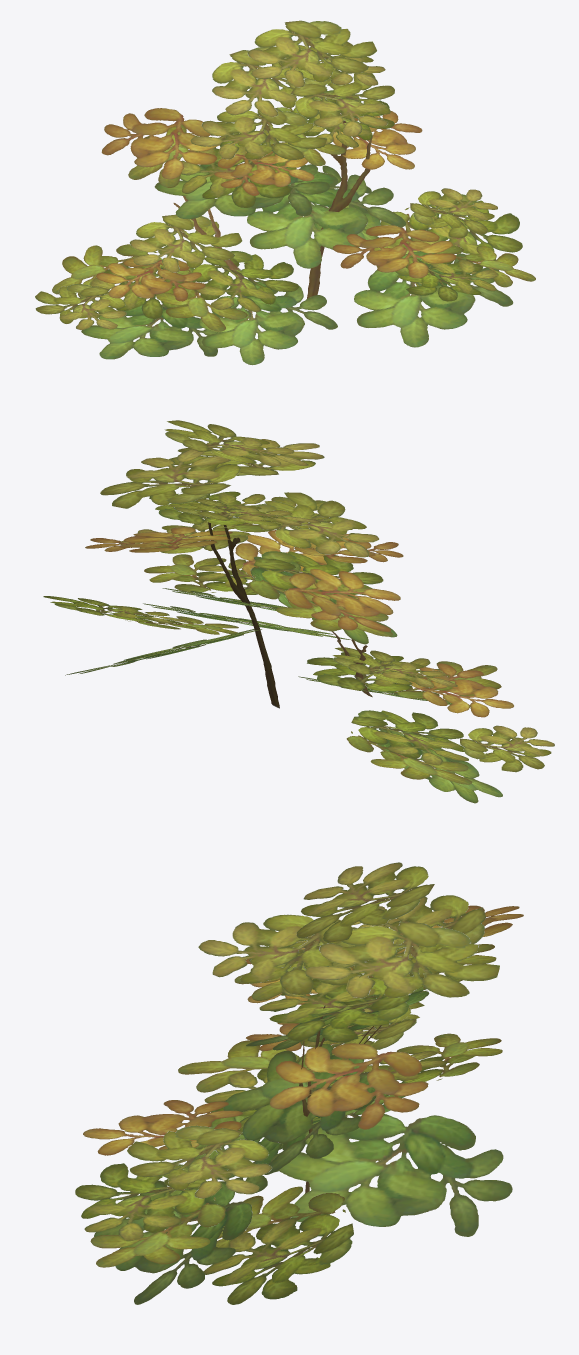
Rendered from Map_08_tree06.FBX.
3 renders of one model, top to bottom at view 1: azimuth 30°, elevation 25°; view 2: azimuth 150°, elevation 25°; view 3: azimuth 270°, elevation 25°, orthographic. The views are drawn at different scales.
Parts seen in each view (by area): view 1: Map_08_tree06; view 2: Map_08_tree06; view 3: Map_08_tree06.
Boxes of the visible parts, box(x1,y1,x2,y2) form: Map_08_tree06: box(35, 20, 535, 365); Map_08_tree06: box(43, 420, 554, 803); Map_08_tree06: box(75, 862, 523, 1304).
Size of the model in its own units: 500 by 265 by 352.
